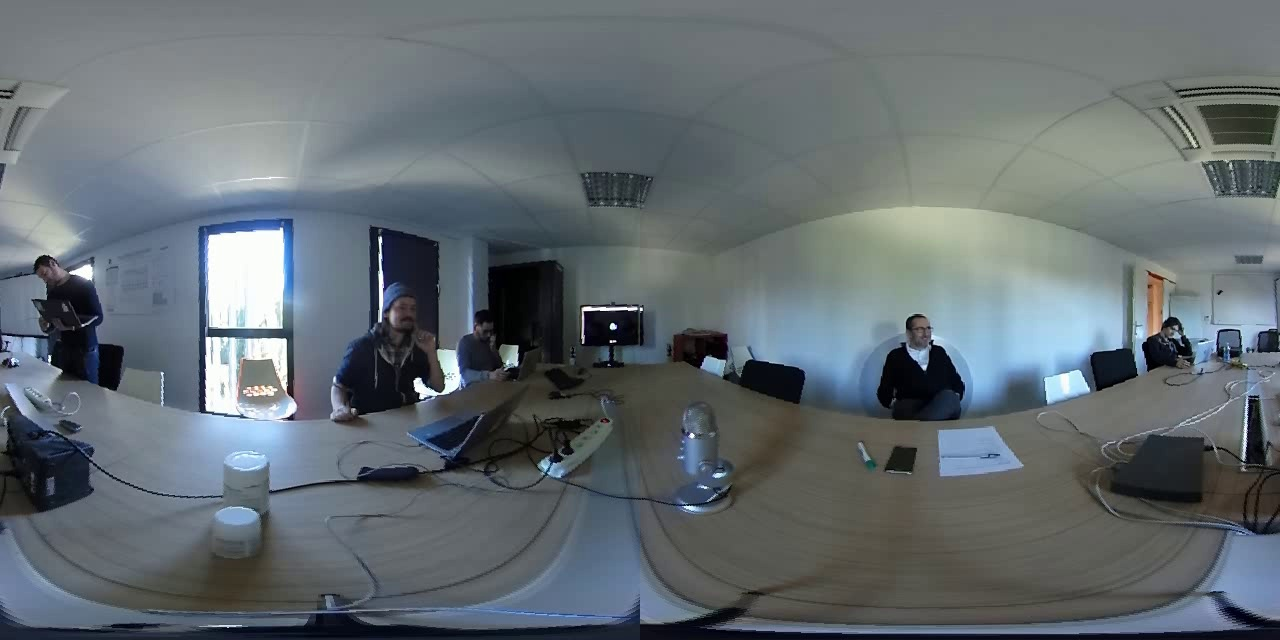person: (329, 270, 455, 407), (874, 309, 974, 429), (19, 249, 111, 373), (455, 306, 516, 388), (1144, 306, 1202, 376)
